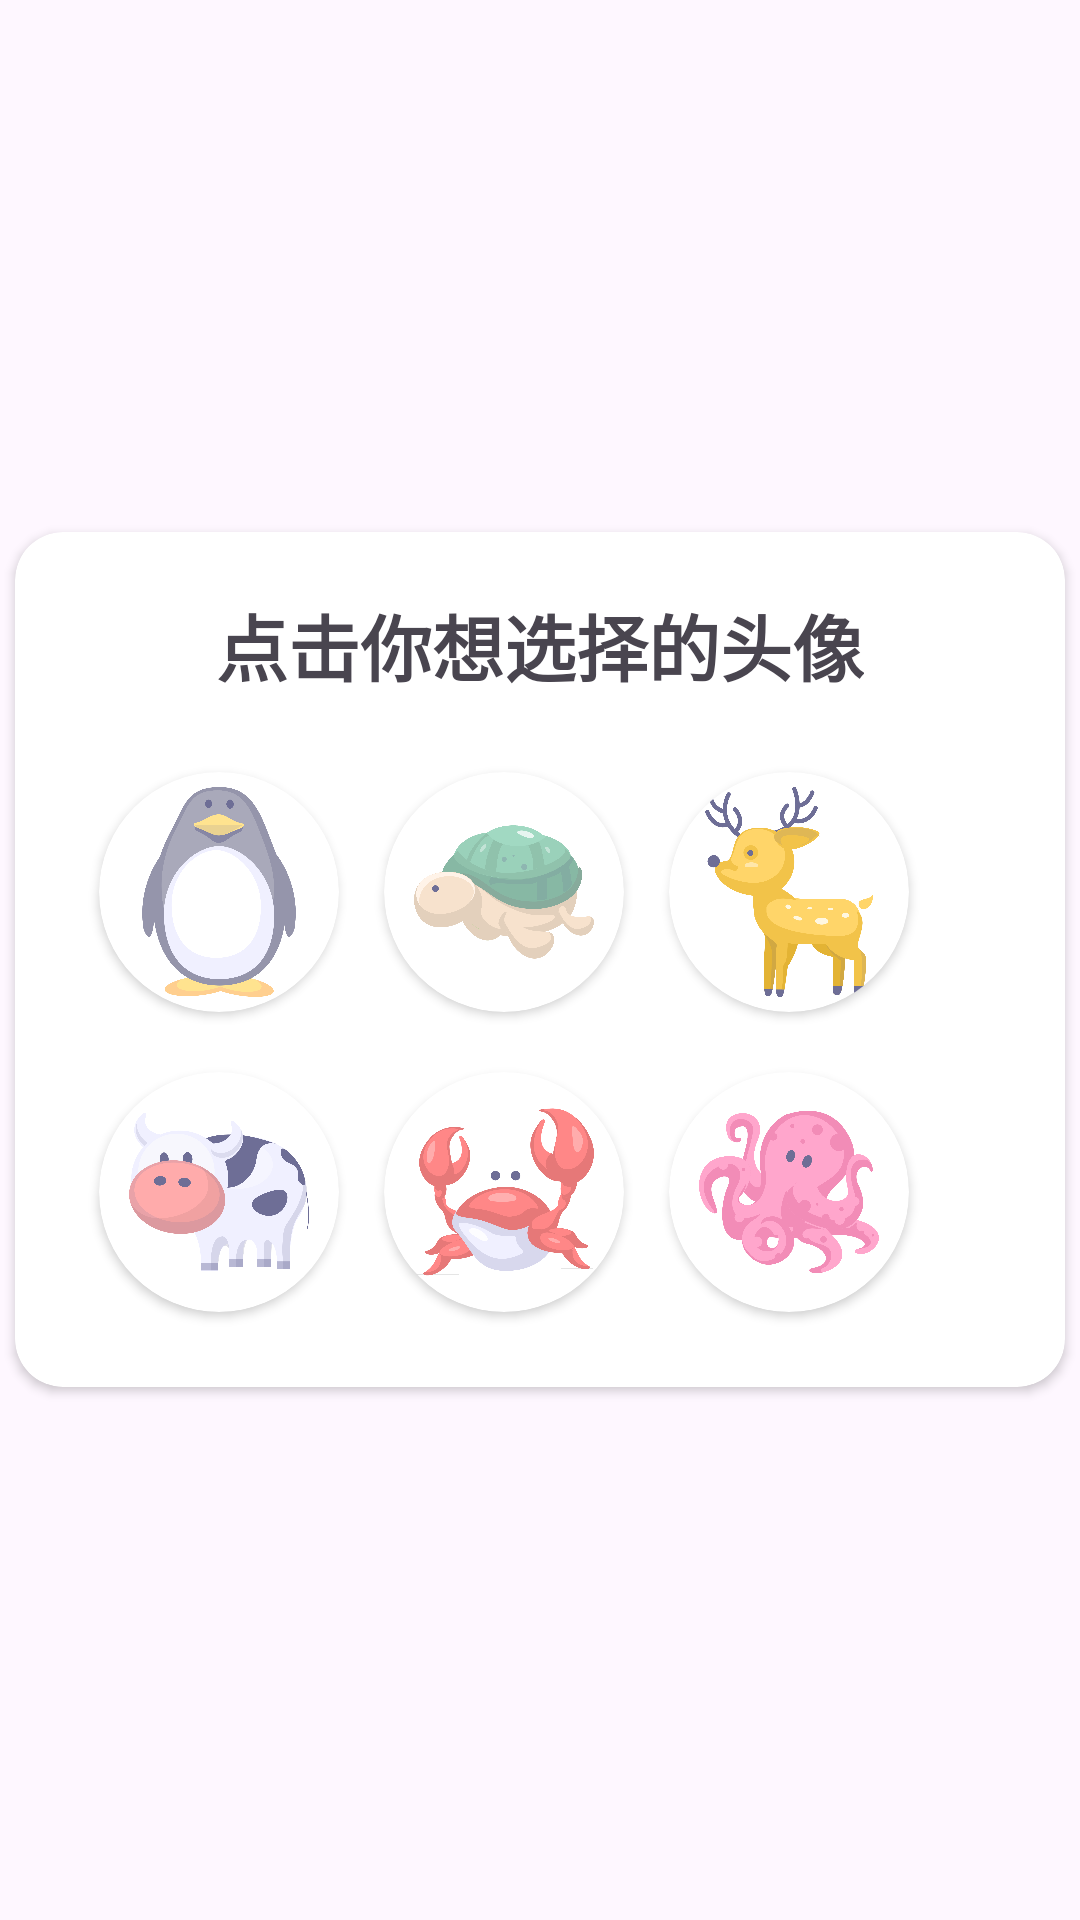

Icon bounding boxes for this 1080px x 1920px phone screenshot, format [x1=x1, y1=y1, x2=x2, y2=y2]:
head: [x1=142, y1=787, x2=296, y2=997], [x1=699, y1=787, x2=879, y2=997], [x1=414, y1=825, x2=594, y2=959], [x1=414, y1=1108, x2=594, y2=1297], [x1=699, y1=1111, x2=879, y2=1273], [x1=129, y1=1124, x2=309, y2=1271]
